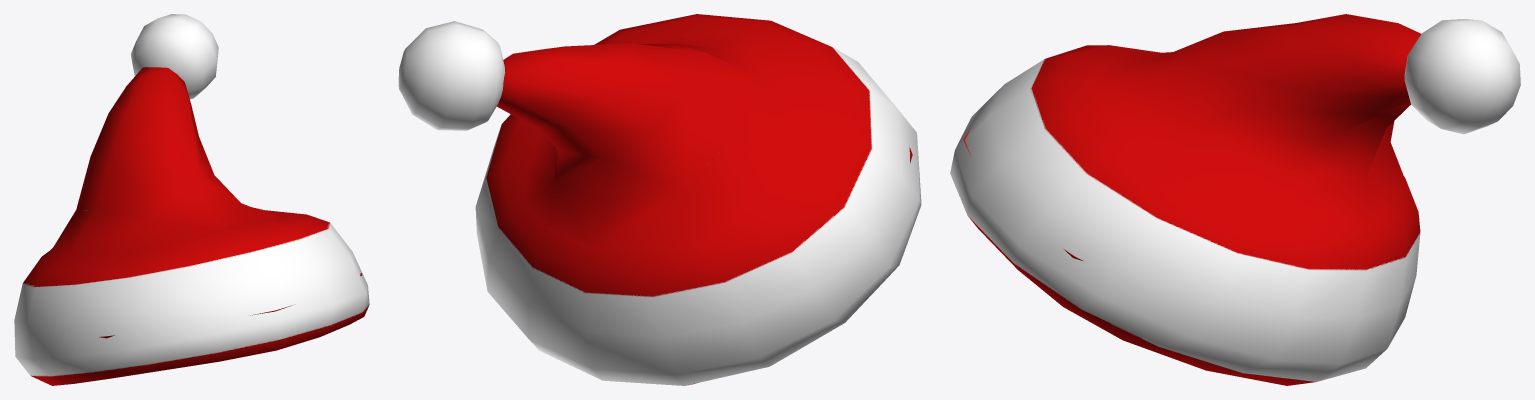
The model's file is hat deneme.fbx.
The picture shows the model from 3 angles, left to right: view 1: azimuth 30°, elevation 25°; view 2: azimuth 150°, elevation 25°; view 3: azimuth 270°, elevation 25°; orthographic projection. The views are drawn at different scales.
Visible parts, largest first — view 1: santa hat; view 2: santa hat; view 3: santa hat.
Part boxes in pixels (x1=…): santa hat: x1=14, y1=14, x2=369, y2=385; santa hat: x1=398, y1=14, x2=921, y2=385; santa hat: x1=950, y1=14, x2=1520, y2=385.
Size of the model in its own units: 96.21 by 85.14 by 116.
Materials: 1 (1 with a texture image).
